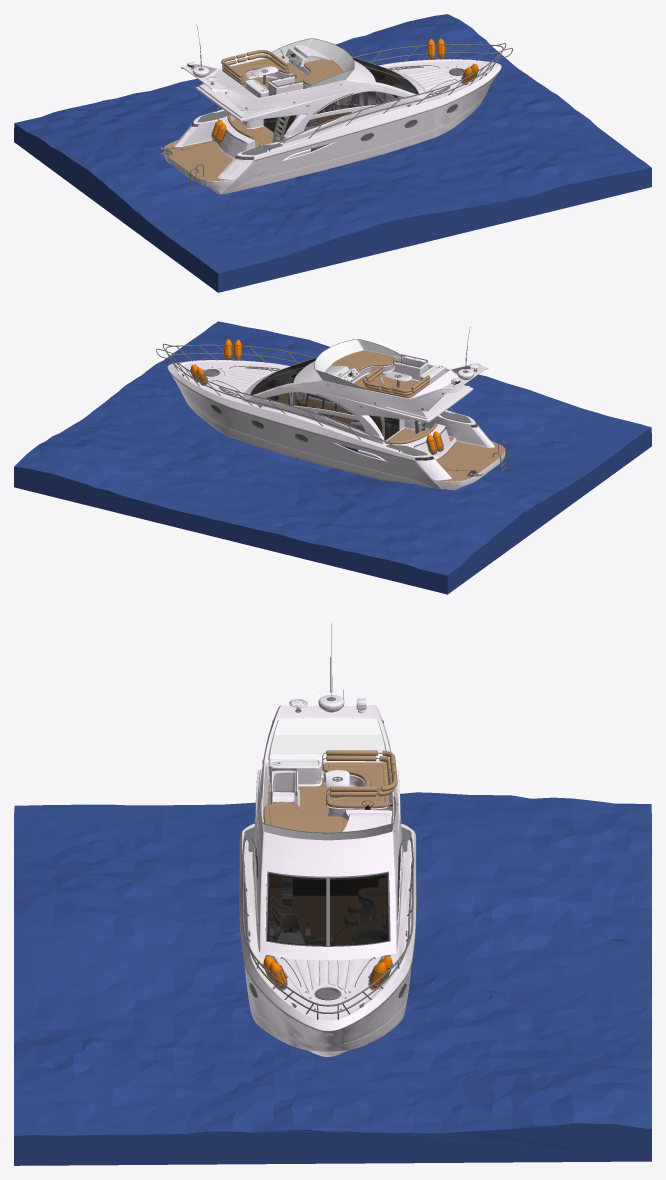
3 views of the same model, one above another, from view 1: azimuth 30°, elevation 25°; view 2: azimuth 150°, elevation 25°; view 3: azimuth 270°, elevation 25° (orthographic). The views are drawn at different scales.
Visible parts, largest first — view 1: Eau, arch48_003_obj_04, arch48_003_obj_00, arch48_003_obj_03, arch48_003_obj_05, arch48_003_obj_07, arch48_003_obj_06, arch48_003_obj_08, arch48_003_obj_02; view 2: Eau, arch48_003_obj_04, arch48_003_obj_00, arch48_003_obj_03, arch48_003_obj_07, arch48_003_obj_05, arch48_003_obj_06, arch48_003_obj_08, arch48_003_obj_02, Layer 01; view 3: Eau, arch48_003_obj_04, arch48_003_obj_07, arch48_003_obj_00, arch48_003_obj_05, arch48_003_obj_06, Layer 01, arch48_003_obj_03, arch48_003_obj_08.
Part boxes in pixels (x1,y1,x2,y2): Eau: (14, 14, 651, 292); arch48_003_obj_04: (164, 45, 501, 194); arch48_003_obj_00: (159, 24, 512, 192); arch48_003_obj_03: (164, 62, 397, 180); arch48_003_obj_05: (221, 50, 385, 147); arch48_003_obj_07: (265, 57, 417, 134); arch48_003_obj_06: (201, 38, 354, 116); arch48_003_obj_08: (164, 47, 487, 192); arch48_003_obj_02: (212, 38, 478, 142); Eau: (14, 321, 651, 594); arch48_003_obj_04: (167, 350, 505, 490); arch48_003_obj_00: (156, 327, 506, 477); arch48_003_obj_03: (257, 369, 504, 481); arch48_003_obj_07: (251, 358, 398, 439); arch48_003_obj_05: (297, 350, 437, 444); arch48_003_obj_06: (315, 339, 467, 416); arch48_003_obj_08: (181, 366, 505, 487); arch48_003_obj_02: (190, 339, 443, 453); Layer 01: (294, 399, 397, 439); Eau: (14, 792, 651, 1165); arch48_003_obj_04: (240, 695, 416, 1056); arch48_003_obj_07: (255, 847, 400, 945); arch48_003_obj_00: (239, 623, 416, 1031); arch48_003_obj_05: (263, 750, 399, 930); arch48_003_obj_06: (260, 735, 395, 840); Layer 01: (290, 896, 358, 937); arch48_003_obj_03: (267, 777, 397, 944); arch48_003_obj_08: (245, 761, 410, 1046).
Size of the model in its own units: 17.11 by 6.6 by 13.96.
